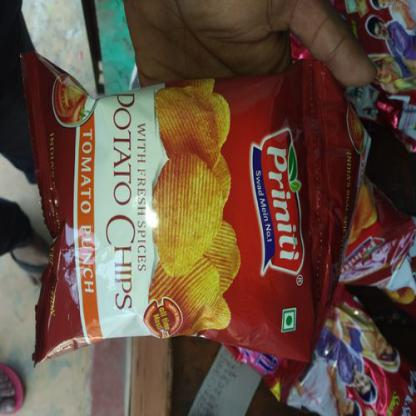potatochip: (13, 35, 330, 374)
